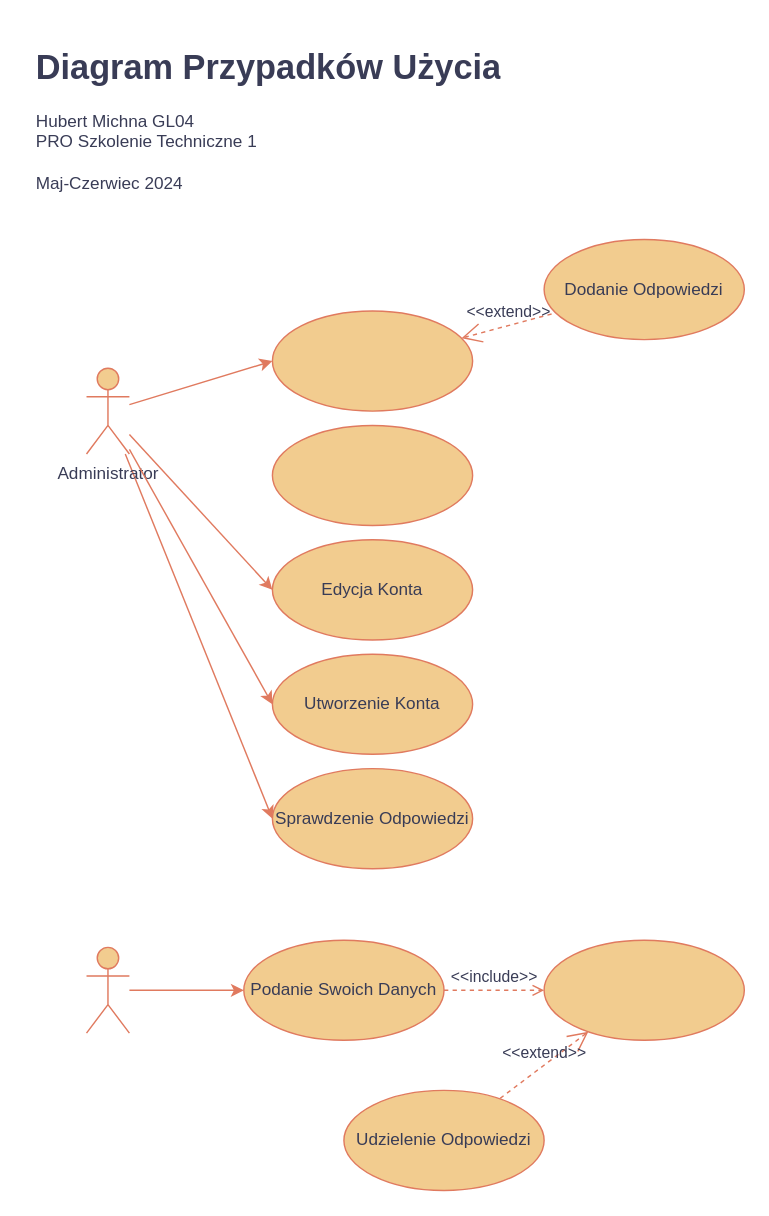
The diagram is 769 pixels wide and 1216 high, and some of its shapes have lost their labels. Here are the shapes that lost their labels. From the top down, the centre of each, then its label:
point 372,360: Utworzenie Testu
point 372,475: Edycja Testu
point 107,989: Uczestnik/Użytkownik
point 643,989: Rozwiązywanie Testu
